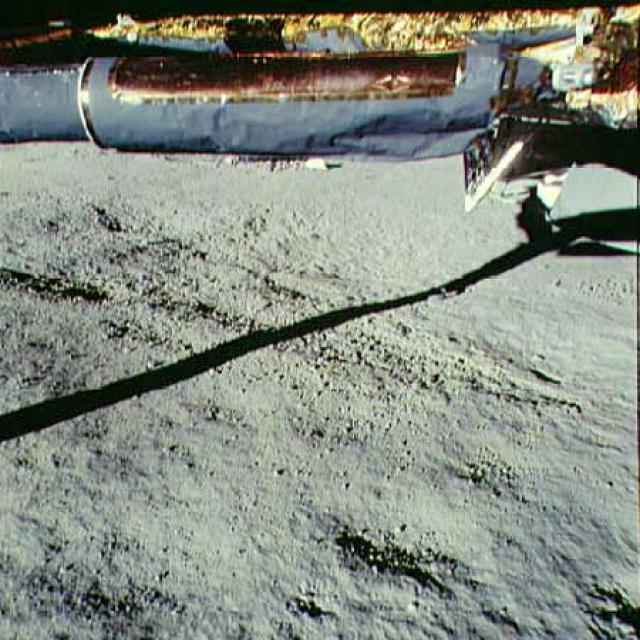crater: (31, 526, 249, 639), (313, 480, 491, 588), (550, 544, 638, 638)
